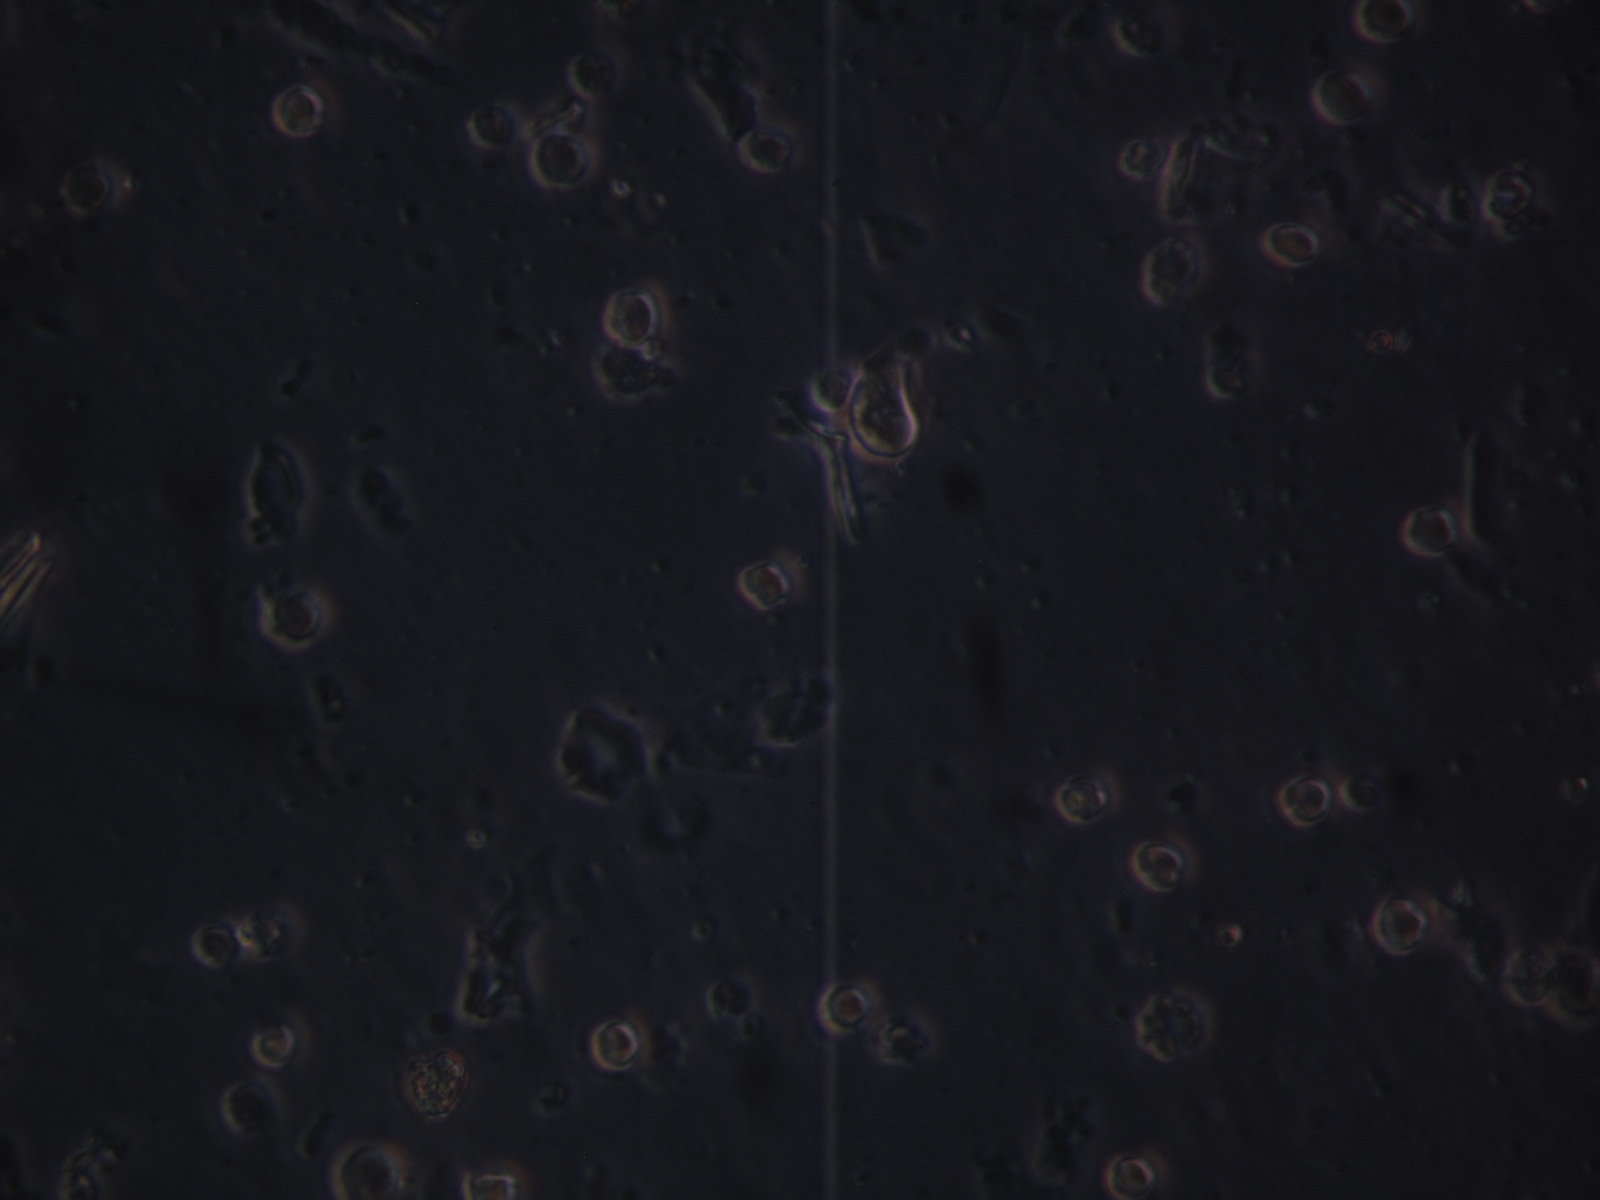hemo: (260, 582, 333, 652), (1141, 234, 1209, 308), (330, 1138, 409, 1200), (223, 1074, 289, 1143), (1131, 831, 1197, 895), (1313, 66, 1383, 125), (1376, 892, 1437, 955), (530, 134, 600, 188), (1111, 5, 1179, 58), (591, 1013, 650, 1074), (737, 124, 803, 176), (821, 979, 879, 1039), (1060, 770, 1123, 824), (1105, 1146, 1170, 1196), (605, 289, 661, 347), (253, 1017, 312, 1071), (456, 1158, 530, 1200), (1277, 773, 1333, 828), (740, 560, 795, 611), (1356, 1, 1424, 42), (273, 84, 325, 137), (1403, 505, 1458, 556), (191, 919, 242, 971), (567, 52, 621, 100), (1266, 222, 1322, 267), (471, 103, 520, 150), (808, 366, 853, 413), (1120, 134, 1165, 180)
